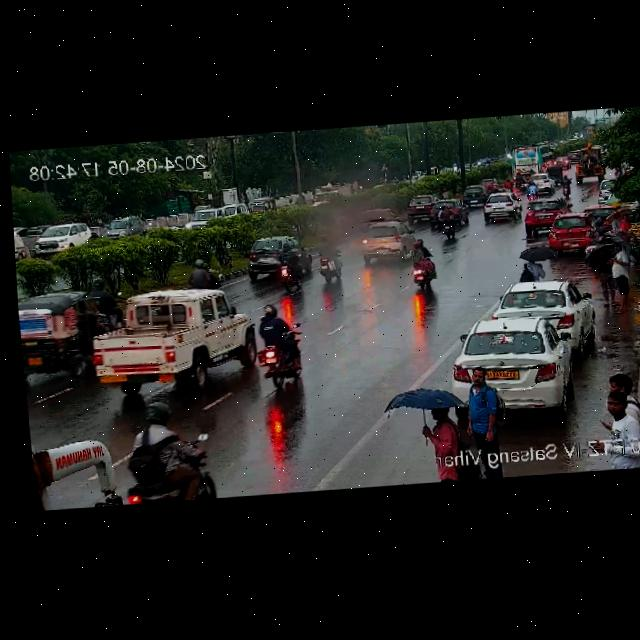bus: (30, 429, 124, 510), (508, 142, 555, 176)
car: (455, 315, 578, 414), (17, 286, 102, 375), (495, 276, 593, 343), (547, 202, 610, 254), (352, 219, 418, 263), (246, 231, 305, 278), (23, 221, 95, 259), (546, 213, 596, 251), (87, 215, 145, 241), (523, 201, 569, 231), (480, 194, 521, 222), (404, 195, 437, 221), (524, 198, 566, 214), (459, 185, 489, 205), (530, 171, 554, 195), (544, 164, 562, 180), (482, 175, 500, 190)
motorcycle: (115, 396, 214, 503), (255, 300, 311, 391), (403, 241, 439, 289), (182, 255, 228, 288), (316, 232, 343, 287), (279, 242, 304, 286), (433, 204, 461, 240), (495, 173, 529, 193), (555, 175, 574, 198), (523, 181, 540, 200)
person: (411, 407, 458, 483), (592, 372, 640, 429), (468, 366, 495, 444), (607, 238, 635, 312), (590, 238, 614, 310), (514, 258, 544, 282), (609, 208, 631, 227)
truck: (86, 283, 262, 393), (565, 147, 603, 181)
